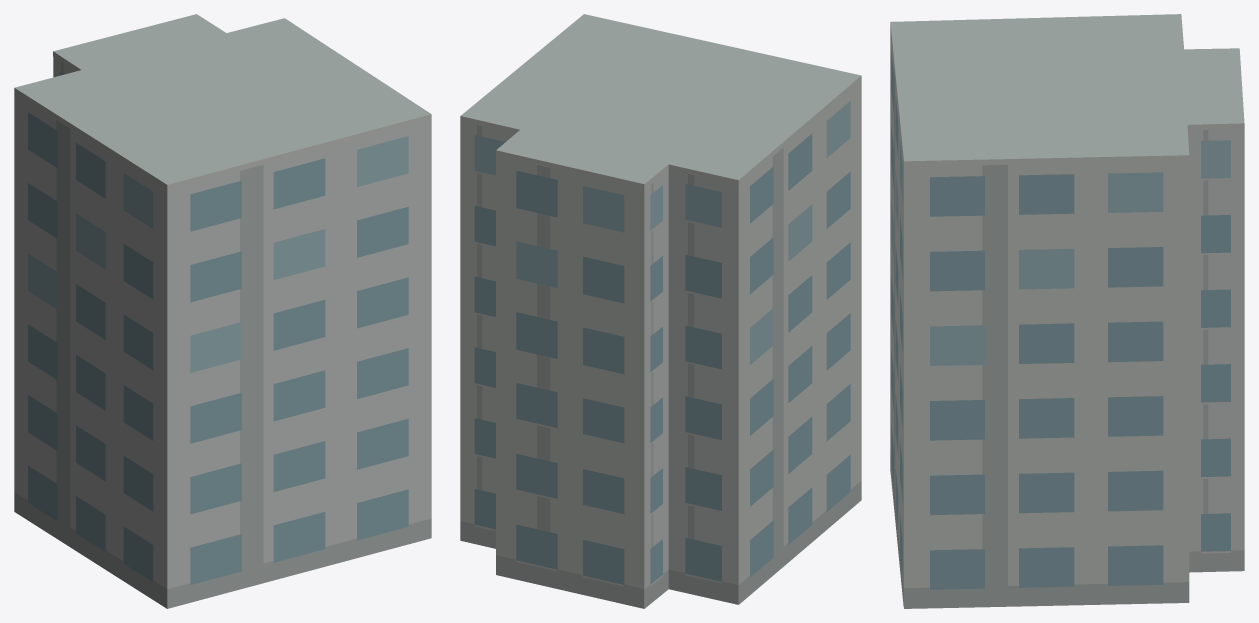
The model's file is survey-upis-32808933.glb.
3 views of the same model, side by side, from view 1: azimuth 30°, elevation 25°; view 2: azimuth 150°, elevation 25°; view 3: azimuth 270°, elevation 25° (orthographic). The views are drawn at different scales.
Parts seen in each view (by area): view 1: survey-upis-32808933.tmp; view 2: survey-upis-32808933.tmp; view 3: survey-upis-32808933.tmp.
Part boxes in pixels (left/top/right/bottom): survey-upis-32808933.tmp: left=14, top=14, right=431, bottom=608; survey-upis-32808933.tmp: left=460, top=14, right=861, bottom=608; survey-upis-32808933.tmp: left=890, top=14, right=1244, bottom=608.
Size of the model in its own units: 13.59 by 19.25 by 13.81.
